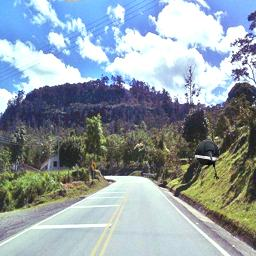Crow: (193, 140, 220, 180)
